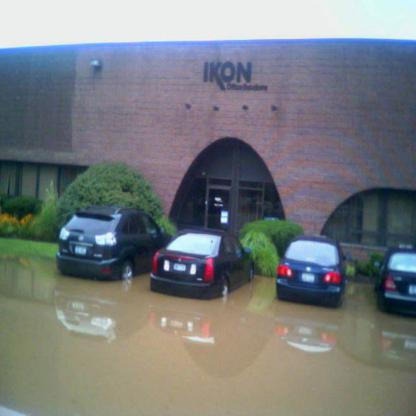Car: (55, 206, 170, 284), (147, 229, 260, 305), (270, 236, 351, 313), (376, 245, 415, 318)
